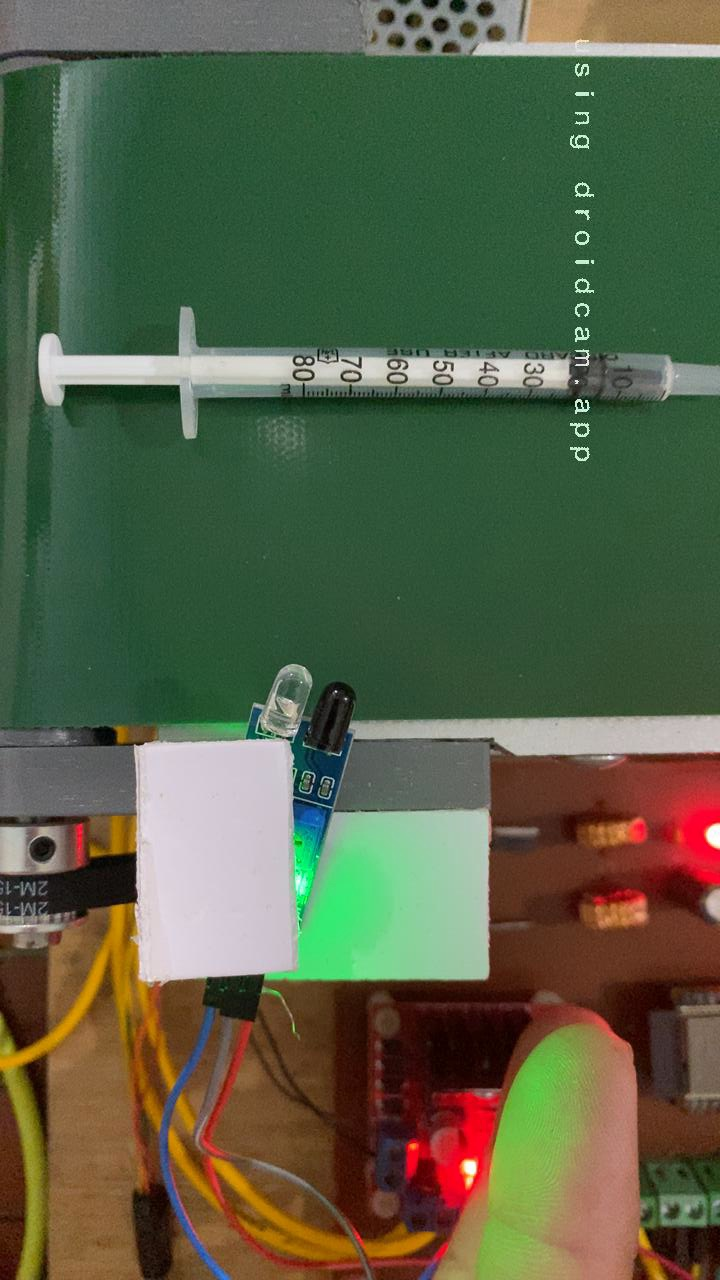syringe: (31, 300, 720, 447)
